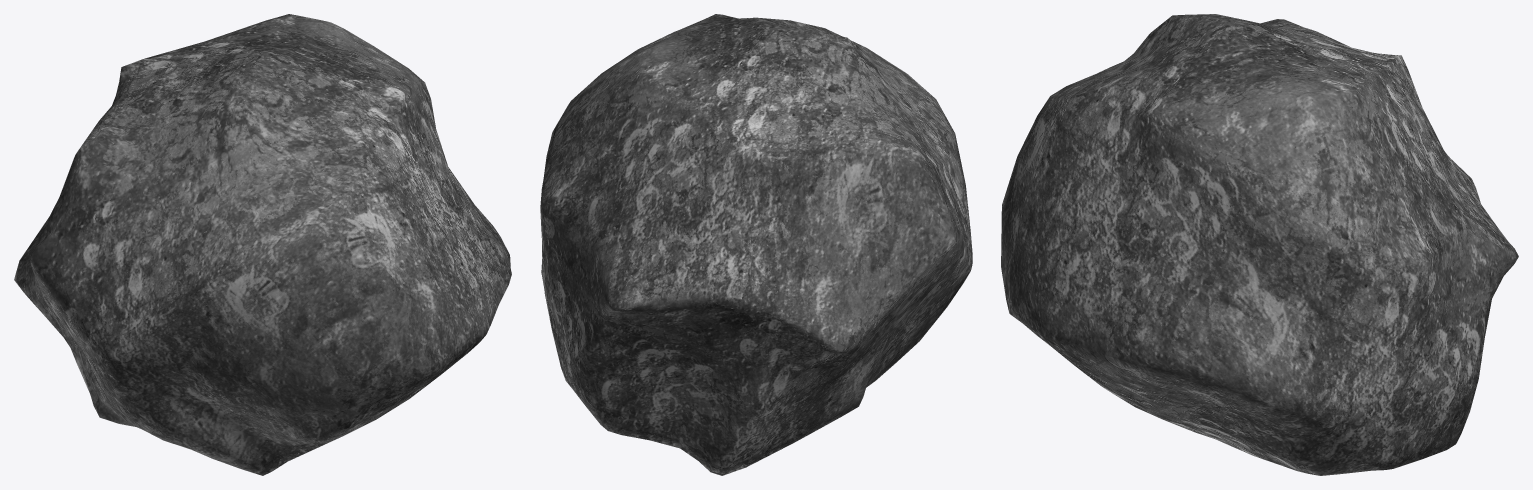
The model's file is Asteroid_3.glb.
The picture shows the model from 3 angles, left to right: view 1: azimuth 30°, elevation 25°; view 2: azimuth 150°, elevation 25°; view 3: azimuth 270°, elevation 25°; orthographic projection. The views are drawn at different scales.
Visible parts, largest first — view 1: Aster_Small_3_; view 2: Aster_Small_3_; view 3: Aster_Small_3_.
Part boxes in pixels (box(x1,y1,x2,y2)): Aster_Small_3_: box(14, 14, 511, 475); Aster_Small_3_: box(540, 14, 972, 475); Aster_Small_3_: box(1001, 14, 1518, 475).
Bounding box in the file's own units: 1.43 × 1.29 × 1.42.
1 material, 1 textured.
